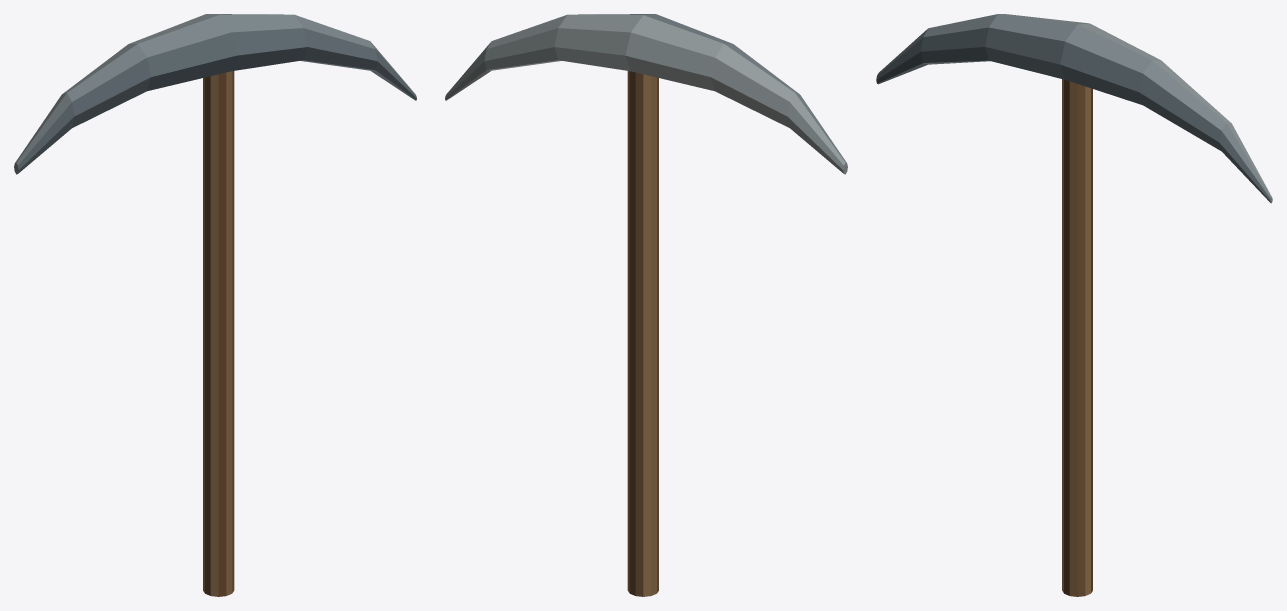
3 views of the same model, side by side, from view 1: azimuth 30°, elevation 25°; view 2: azimuth 150°, elevation 25°; view 3: azimuth 330°, elevation 25° (orthographic).
Visible parts, largest first — view 1: ForgedHead, OakHandle; view 2: ForgedHead, OakHandle; view 3: ForgedHead, OakHandle.
Boxes of the visible parts, x1=… form: ForgedHead: x1=14, y1=14, x2=416, y2=174; OakHandle: x1=203, y1=71, x2=234, y2=596; ForgedHead: x1=445, y1=14, x2=847, y2=174; OakHandle: x1=627, y1=71, x2=658, y2=596; ForgedHead: x1=876, y1=14, x2=1272, y2=203; OakHandle: x1=1062, y1=79, x2=1092, y2=596.
Bounding box in the file's own units: 0.79 × 1.09 × 0.122.
